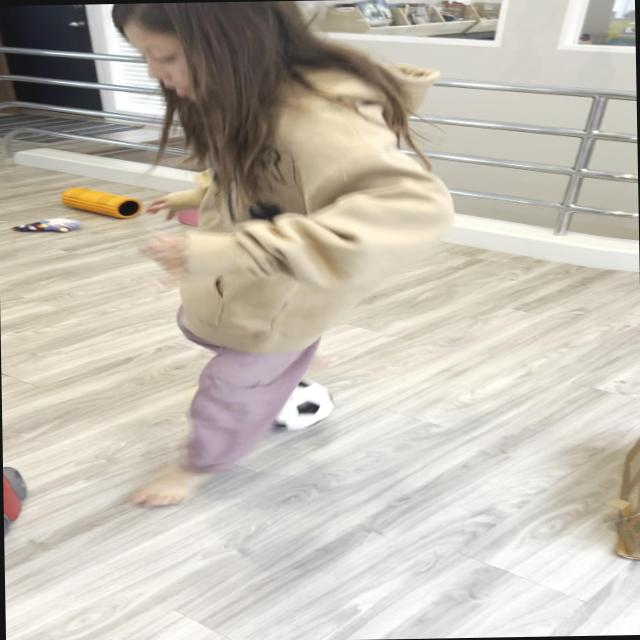Soccer Ball: (246, 377, 336, 430)
